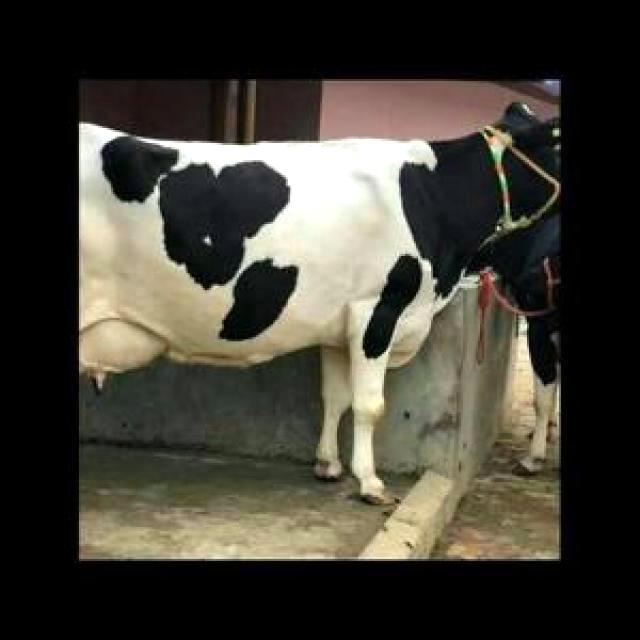COW: (81, 104, 560, 501)
